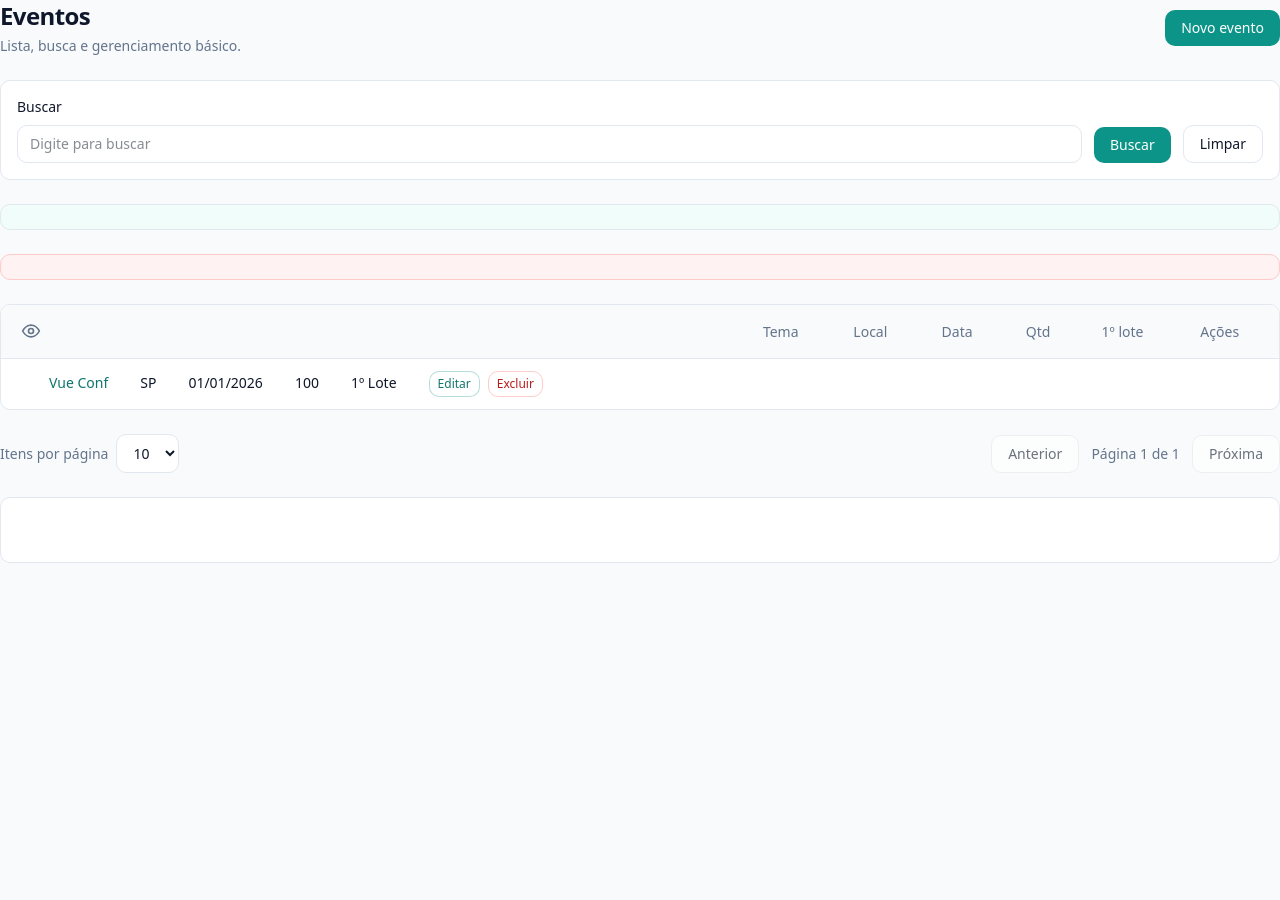
Test: EventoLista › deletes event after confirmation
Click the button "Excluir" at (515, 384), box [488,371,543,397]
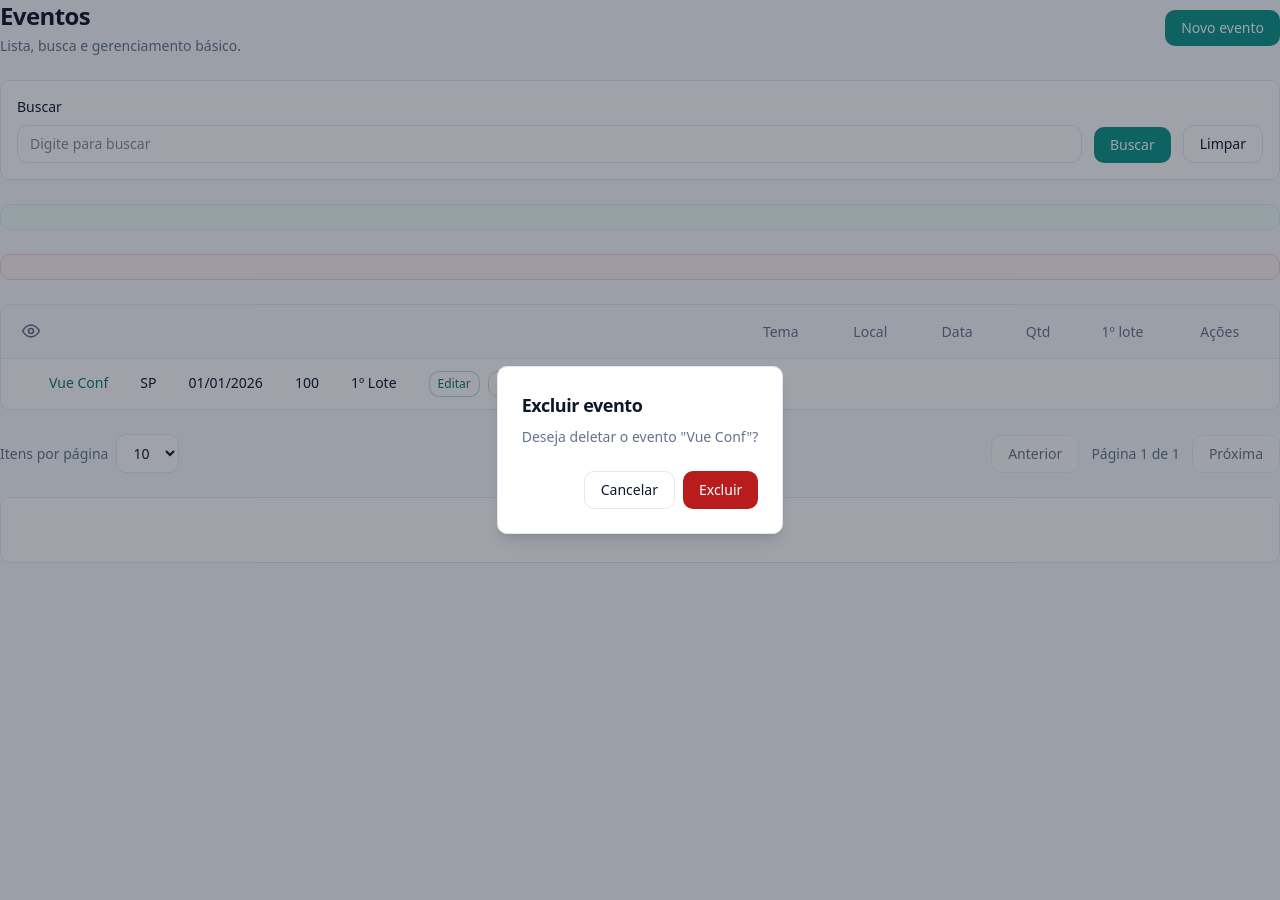
Click the button "Excluir" at (721, 490), box [683,471,758,509]
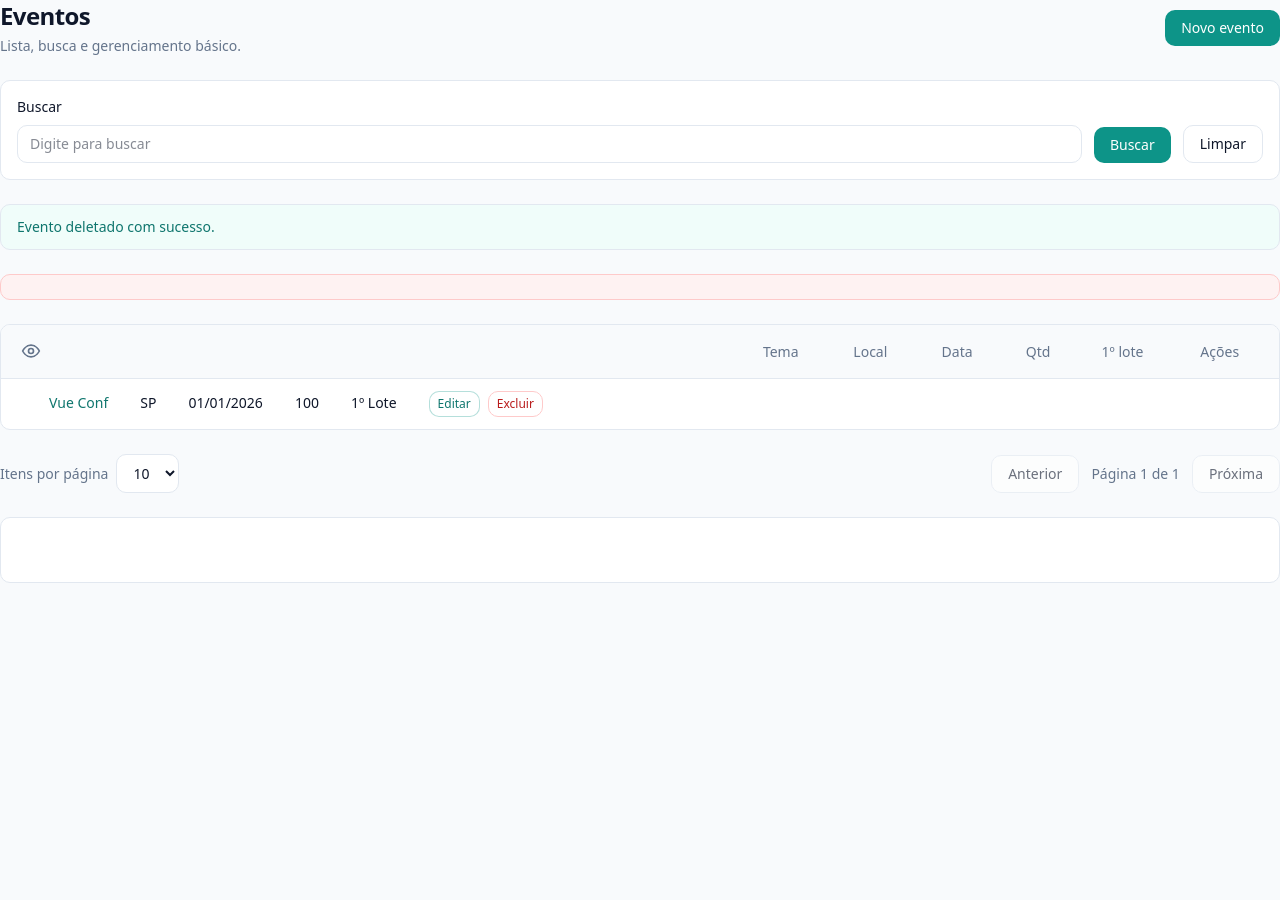
Now the text "Evento deletado com sucesso" is shown, box [17,217,215,236]
